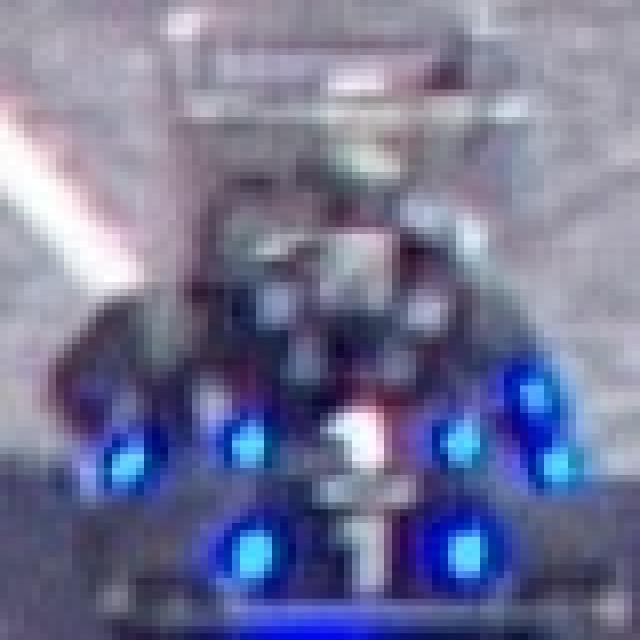B1: (216, 496, 504, 606), (224, 399, 496, 482)
